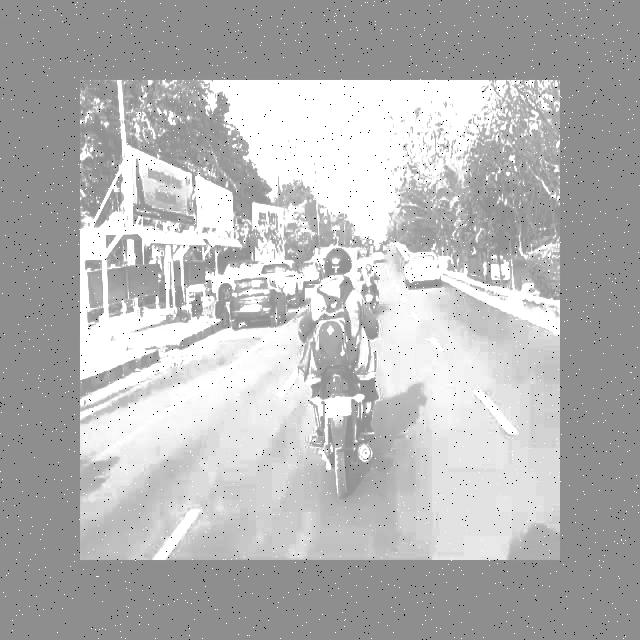Bike: (310, 258, 393, 514)
Car: (226, 272, 279, 336), (269, 252, 306, 322), (402, 242, 442, 298), (482, 244, 514, 292), (302, 252, 320, 282)
